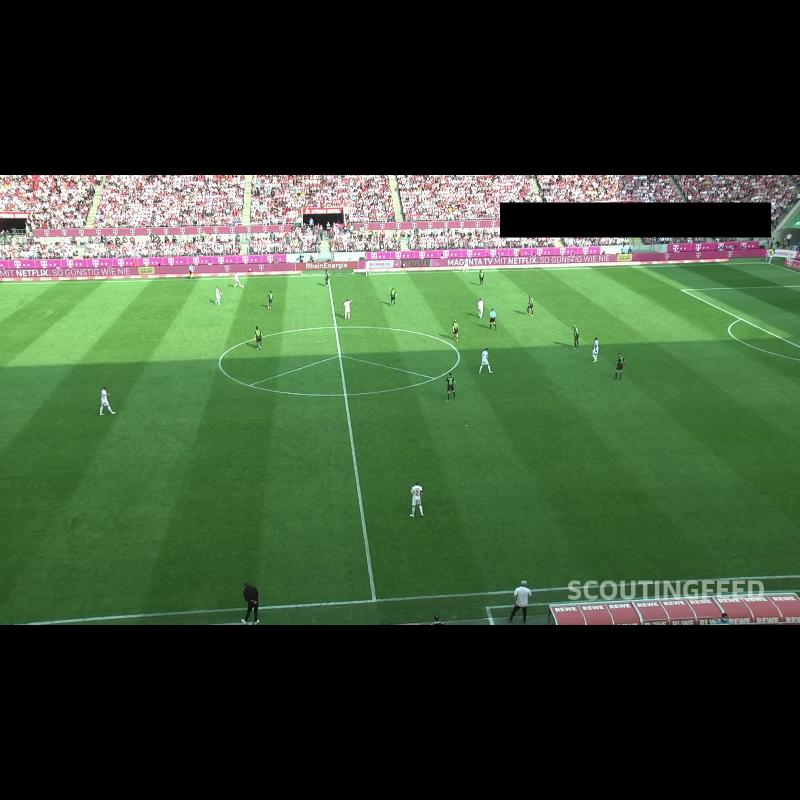cross_recipient_zone: (682, 285, 800, 347)
crossing_player_zone: (544, 263, 800, 293), (0, 282, 104, 312)
pitch: (0, 262, 800, 625)
